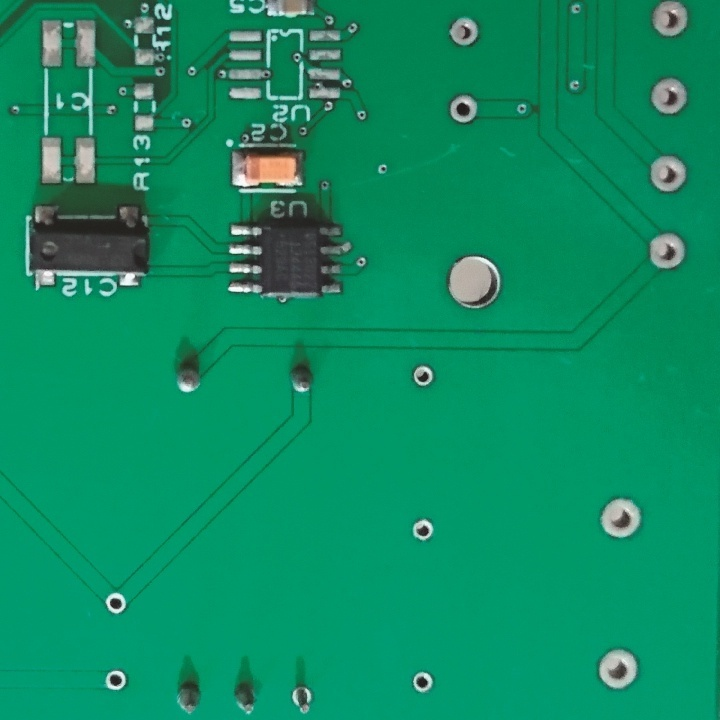F: (596, 492, 645, 542), (594, 646, 642, 693), (648, 228, 690, 272), (647, 154, 690, 196), (650, 1, 692, 42), (649, 77, 689, 114), (445, 14, 481, 49), (448, 92, 481, 125), (287, 680, 317, 714), (410, 515, 437, 546), (102, 664, 130, 692), (103, 589, 130, 618), (411, 362, 437, 389), (410, 669, 436, 696)
